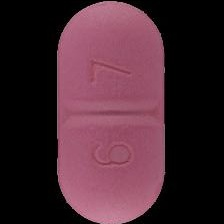50436-0029: (0, 0, 224, 224)
